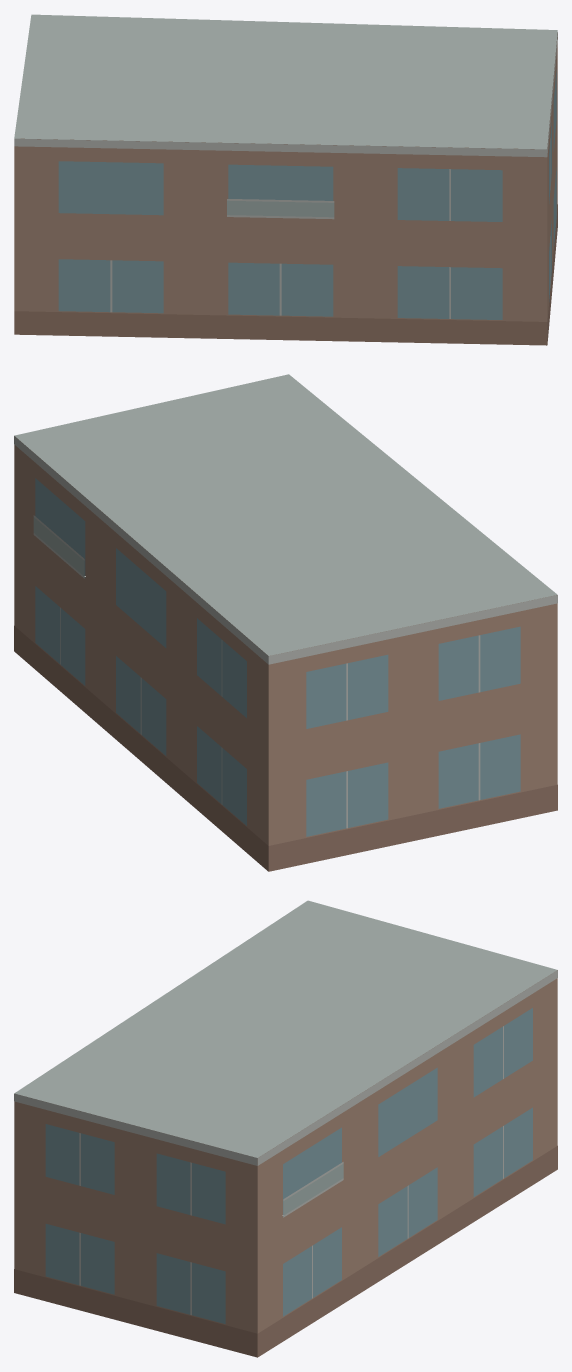
File: survey-upis-32642576.glb
3 views of the same model, one above another, from view 1: azimuth 30°, elevation 25°; view 2: azimuth 150°, elevation 25°; view 3: azimuth 270°, elevation 25° (orthographic). The views are drawn at different scales.
Visible parts, largest first — view 1: survey-upis-32642576.tmp; view 2: survey-upis-32642576.tmp; view 3: survey-upis-32642576.tmp.
Part boxes in pixels (x1=…): survey-upis-32642576.tmp: x1=14, y1=14, x2=557, y2=345; survey-upis-32642576.tmp: x1=14, y1=374, x2=557, y2=871; survey-upis-32642576.tmp: x1=14, y1=900, x2=557, y2=1357.
Bounding box in the file's own units: 16.91 × 6.1 × 15.08.
